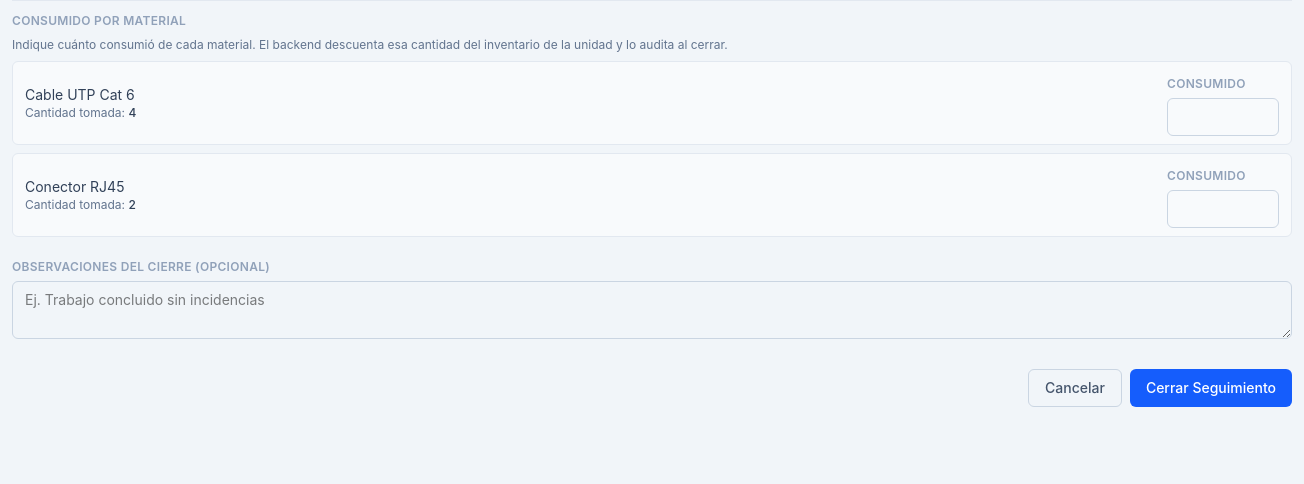
Test: SeguimientoCierreForm validación › REQ-CONSUMO-001: con una sola línea capturada sigue sin enviar
The image size is (1304, 484).
Type "1" into the number field labelled "Consumido" in the row of "Cable UTP Cat 6" at (1223, 117), box [1167,98,1279,136]
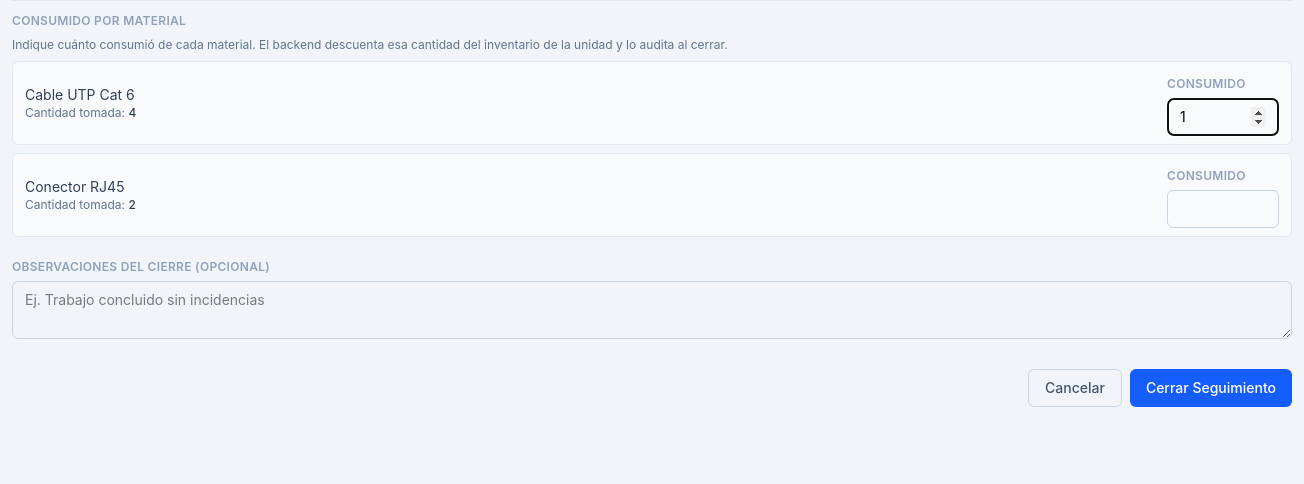
Click the button "Cerrar Seguimiento" at (1211, 388), box [1130,369,1292,407]
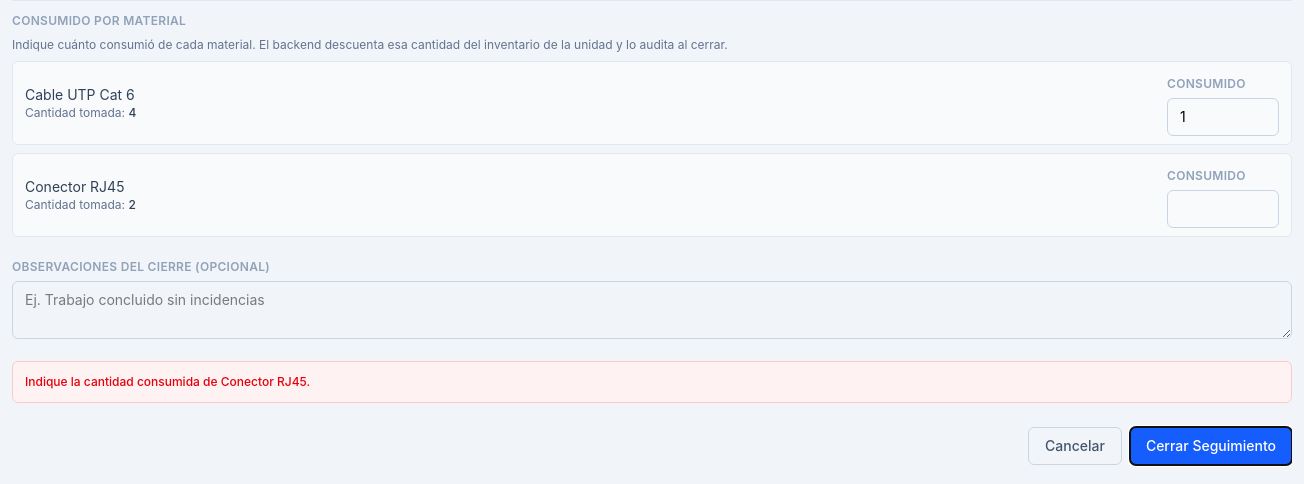
Now the text "Indique la cantidad consumida de Conector RJ45." is shown, box [25,374,310,389]
